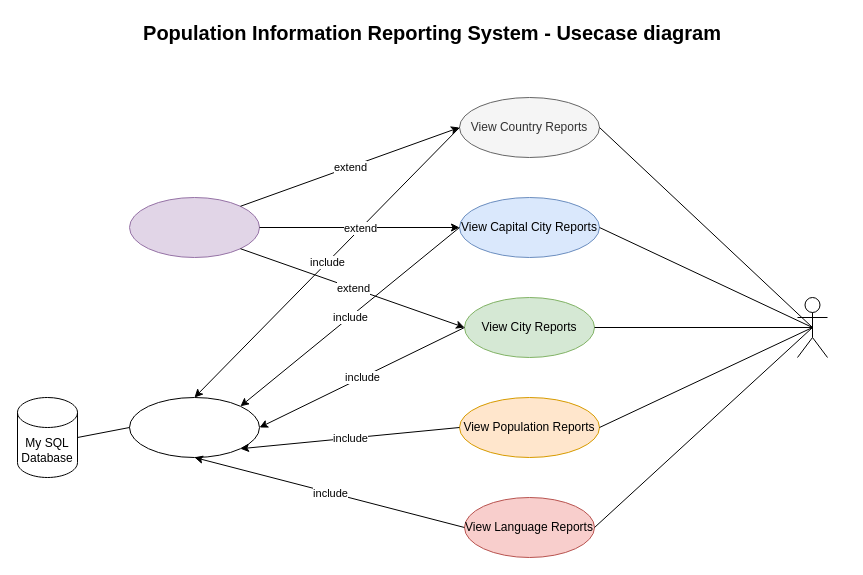
This 863x575 diagram has some shape labels left out. Each missing label, with the centre of its shape:
"Data Analyst" goes at [812,327].
"Retrieve Data from Database" goes at [194,427].
"View Top-N Reports" goes at [194,227].
